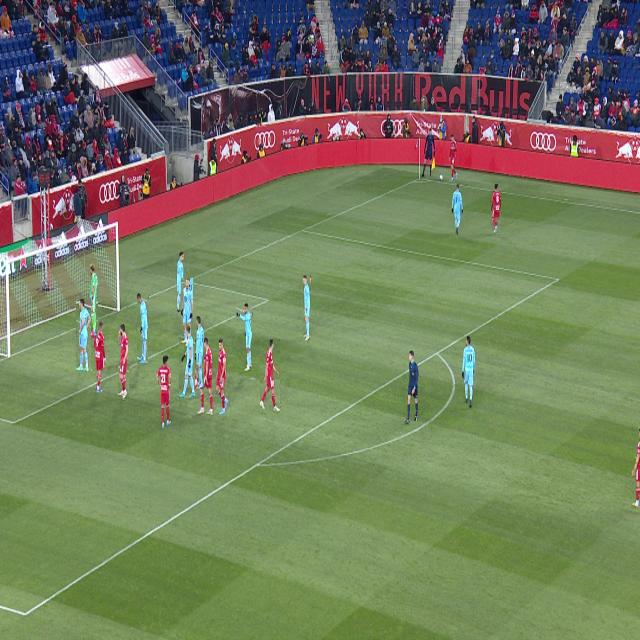goalkeeper: (90, 264, 98, 337)
player: (260, 340, 280, 413), (198, 338, 213, 415), (179, 326, 195, 398), (156, 355, 171, 428), (237, 303, 252, 372), (77, 299, 91, 372), (94, 322, 107, 393), (216, 339, 228, 415), (462, 337, 475, 407), (118, 325, 129, 399), (181, 279, 193, 346), (137, 294, 148, 365), (195, 316, 204, 389), (631, 441, 640, 507), (452, 183, 463, 236), (491, 184, 501, 233), (177, 251, 185, 311), (304, 275, 310, 341), (639, 428, 640, 438)
referee: (405, 351, 419, 424)
